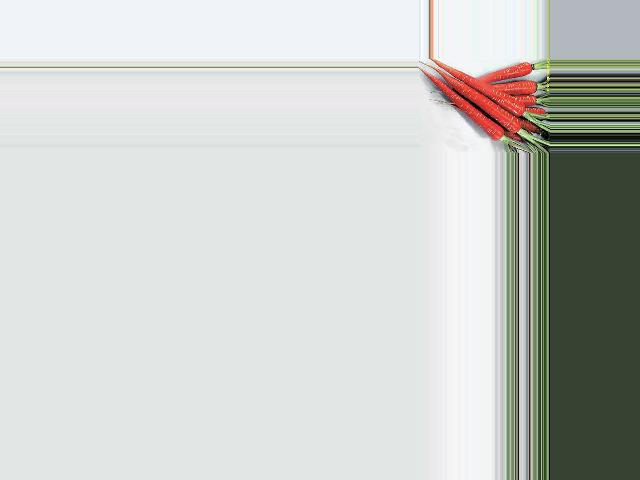carrot: (476, 59, 534, 85)
